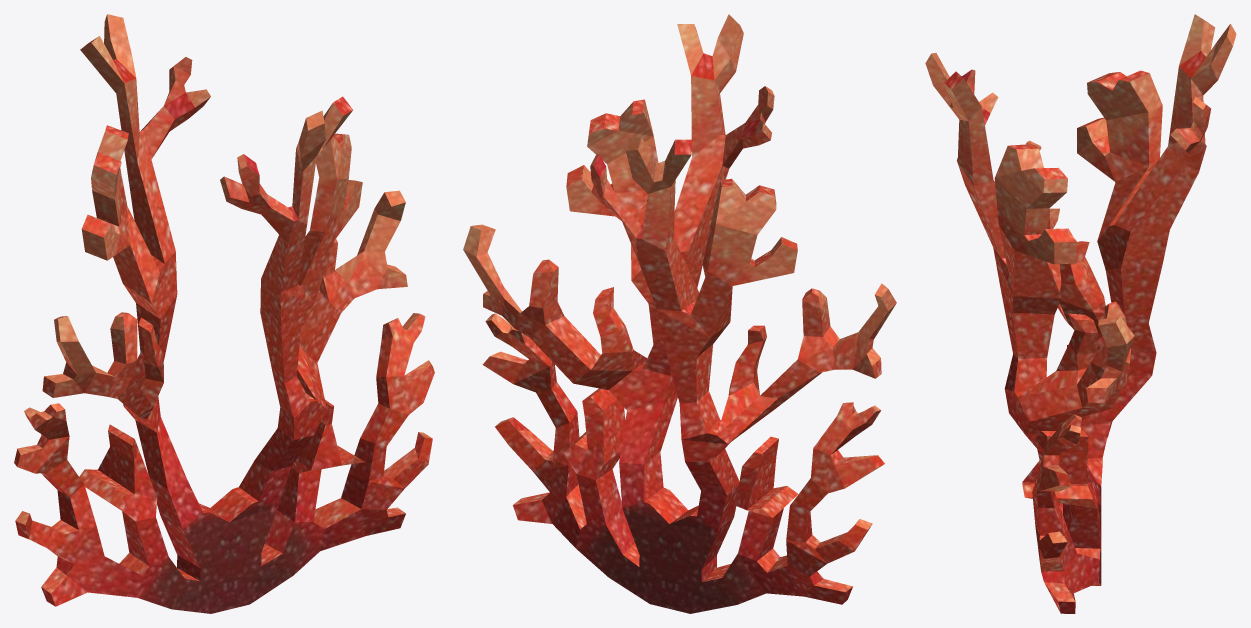
The model's file is coral.glb.
3 renders of one model, left to right at view 1: azimuth 30°, elevation 25°; view 2: azimuth 150°, elevation 25°; view 3: azimuth 270°, elevation 25°, orthographic. The views are drawn at different scales.
Visible parts, largest first — view 1: Cube.044_0, Cube.046_1; view 2: Cube.046_1, Cube.044_0; view 3: Cube.046_1, Cube.044_0.
Boxes of the visible parts, x1=… form: Cube.044_0: x1=14, y1=14, x2=229, y2=613; Cube.046_1: x1=210, y1=96, x2=434, y2=609; Cube.046_1: x1=463, y1=14, x2=774, y2=608; Cube.044_0: x1=590, y1=137, x2=896, y2=613; Cube.046_1: x1=925, y1=53, x2=1134, y2=613; Cube.044_0: x1=1026, y1=14, x2=1236, y2=514.
Bounding box in the file's own units: 7.51 × 9.37 × 4.97.
Materials: 1 (1 with a texture image).
